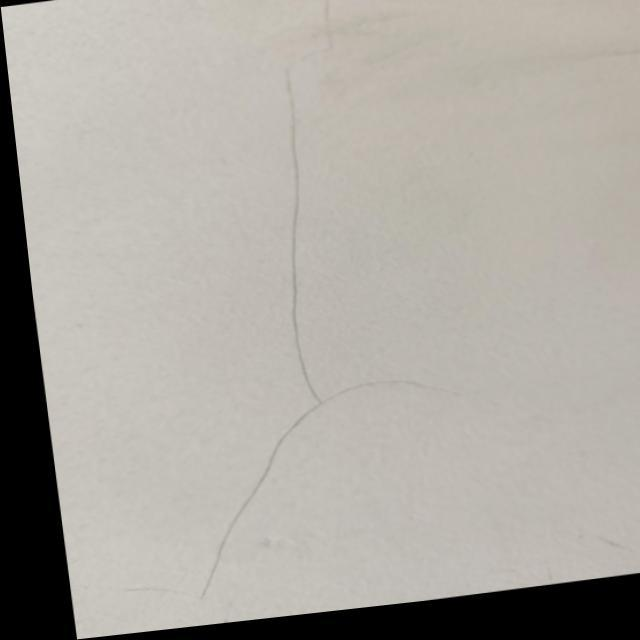Crack: (197, 75, 326, 593)
